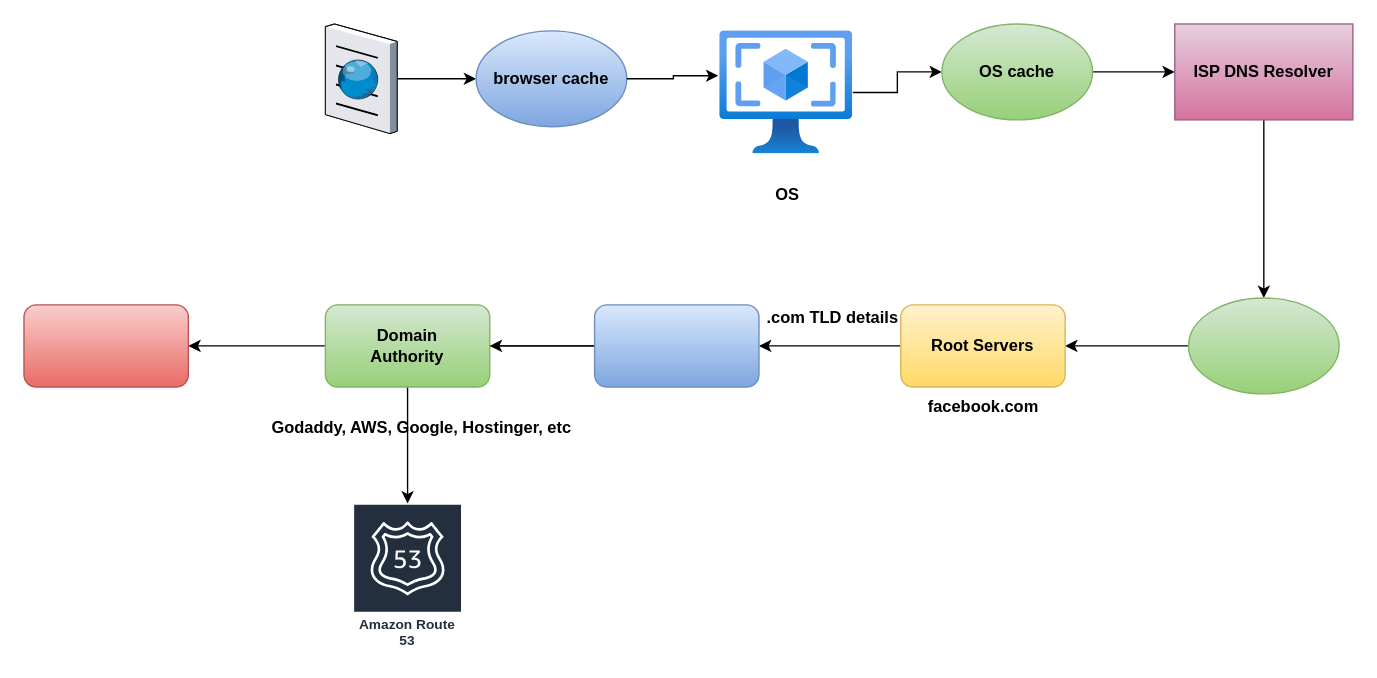
This 1377x678 diagram has some shape labels left out. The centre of each missing label's shape, as x and y in pixels:
".com TLD" goes at [676,345].
"DNS cache" goes at [1263,345].
"Godaddy" goes at [105,345].
